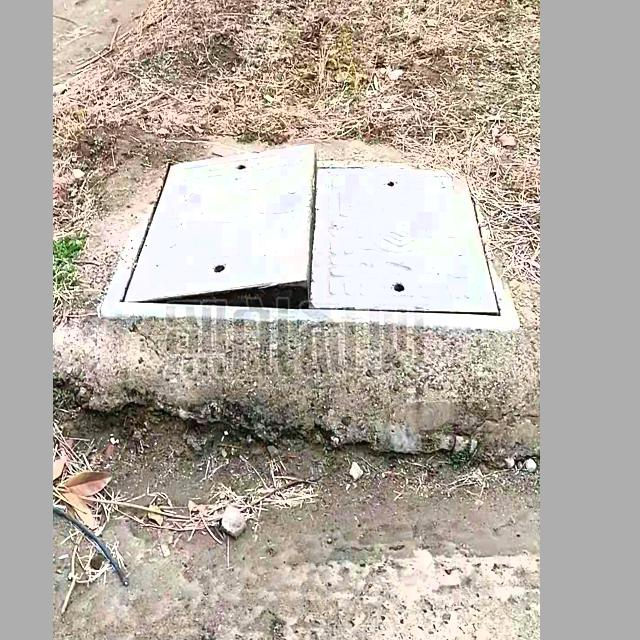uncovered: (97, 145, 522, 328)
